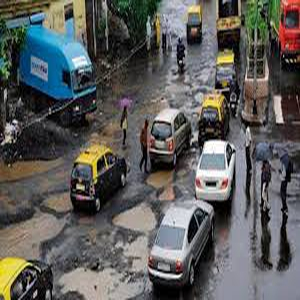pothole: (2, 206, 68, 272), (59, 263, 151, 300), (110, 199, 163, 233), (144, 171, 181, 200)
